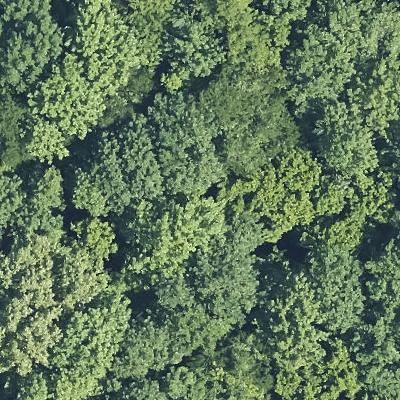tree-top: (68, 98, 223, 214), (5, 238, 132, 378), (192, 59, 304, 178), (123, 197, 227, 276), (24, 68, 102, 163), (266, 321, 359, 400), (72, 0, 143, 86), (286, 23, 359, 104), (299, 242, 360, 334), (309, 99, 380, 178), (215, 0, 301, 64), (164, 2, 226, 86), (251, 153, 320, 227), (0, 165, 68, 240), (3, 11, 66, 90), (195, 244, 262, 317), (126, 317, 194, 384), (322, 174, 393, 237), (334, 0, 400, 59), (346, 59, 400, 124), (362, 235, 399, 314), (69, 214, 119, 263), (352, 318, 400, 368), (161, 365, 217, 400)
